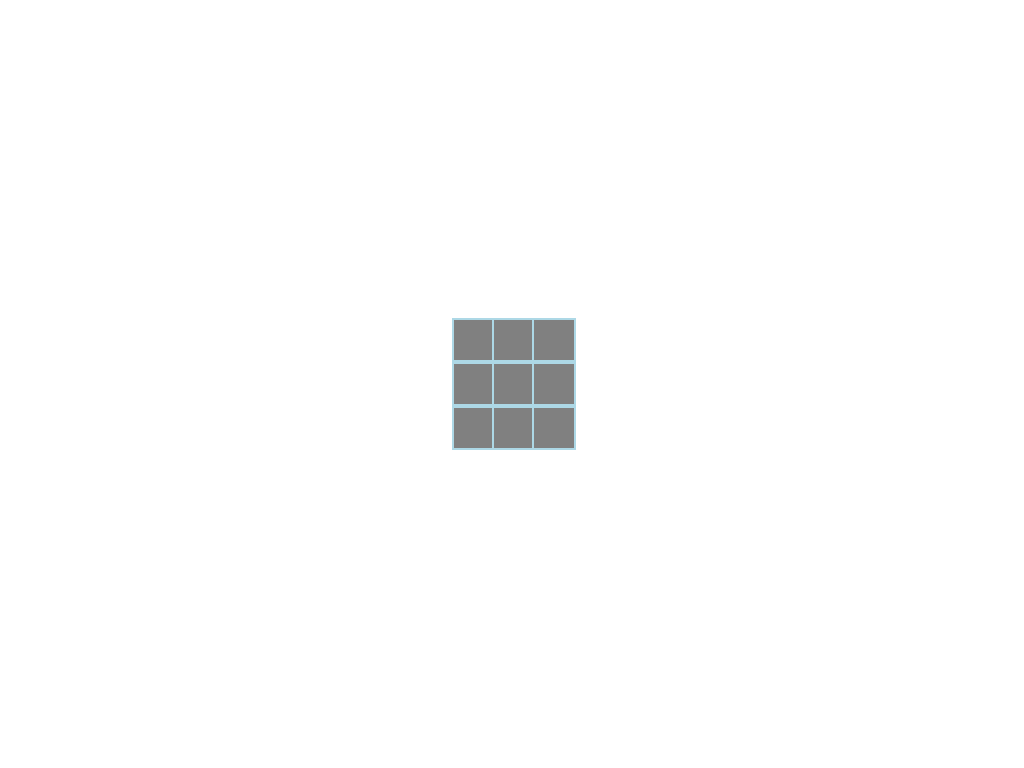
Test: Gameboard - Explosion and Confetti › clicking on a mine shows explosion icon and plays confetti animation
Step 1. Click the element with test id "cell-mine" → (474, 340), box [452, 318, 496, 362]
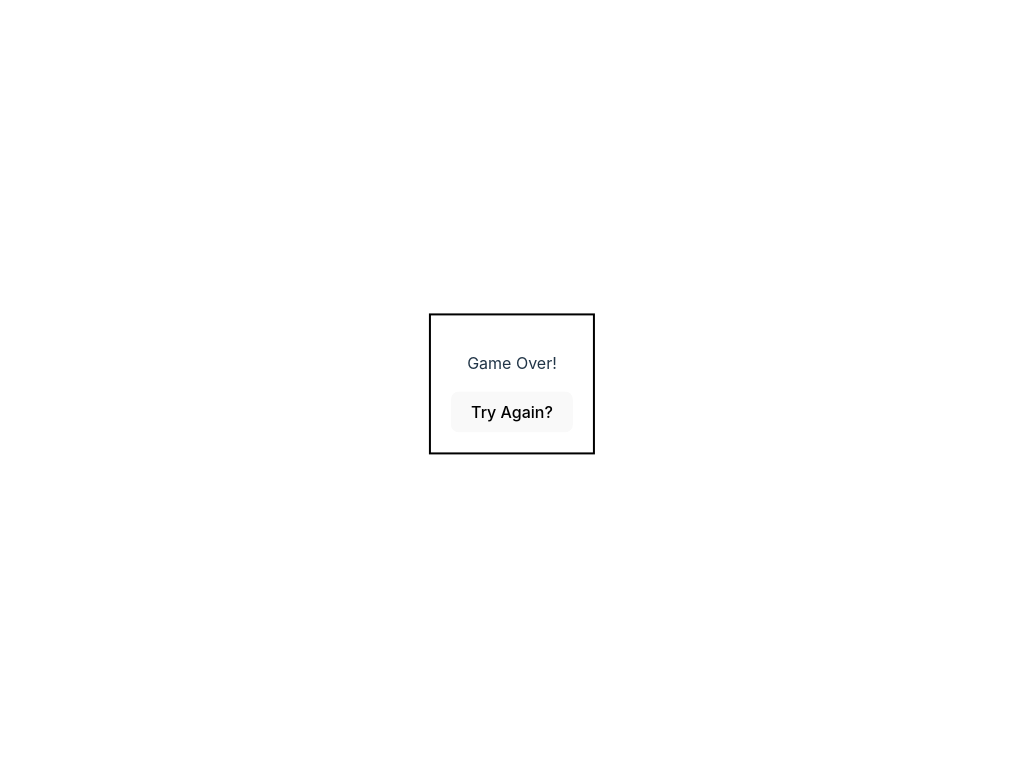
Check: the drawing with test id "confetti" is shown
